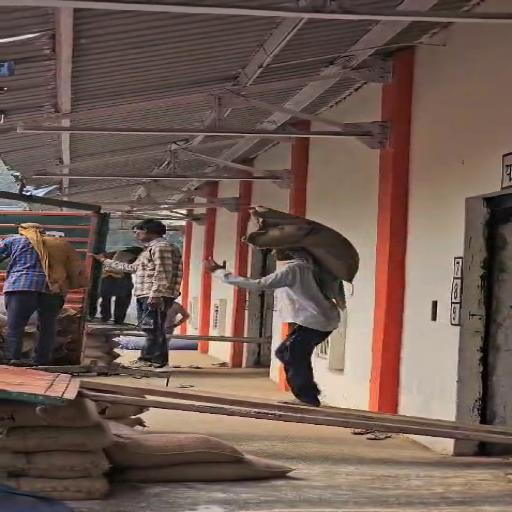bag: (238, 202, 370, 286)
